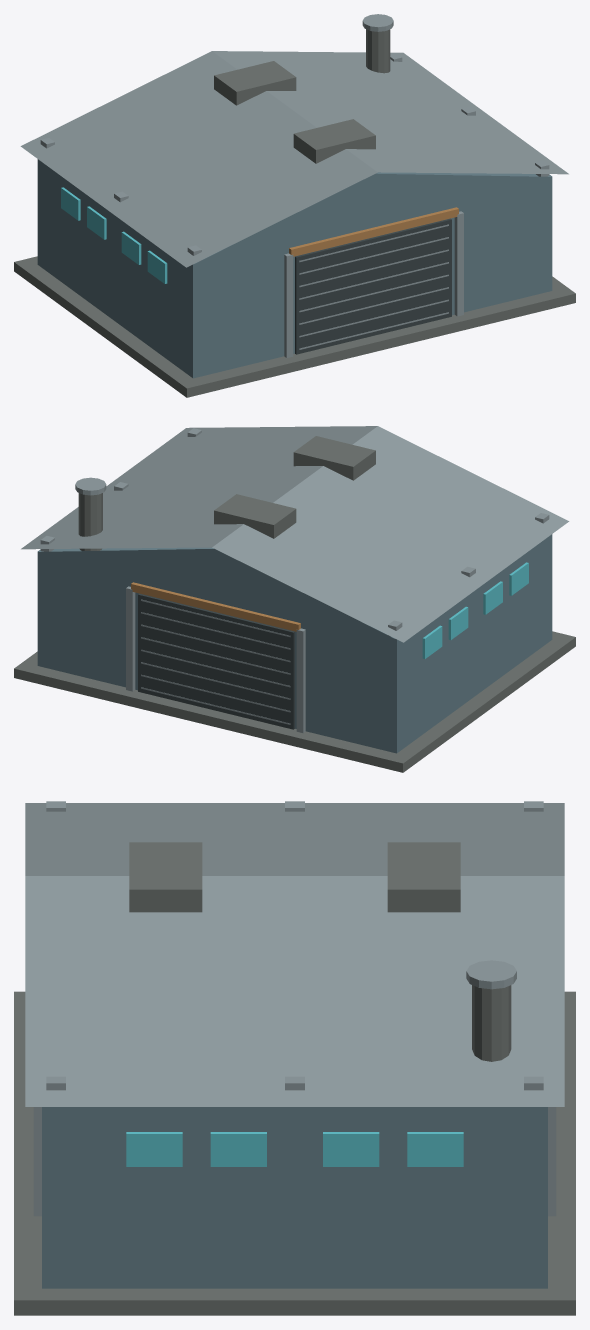
The model's file is tank_factory.glb.
3 renders of one model, top to bottom at view 1: azimuth 30°, elevation 25°; view 2: azimuth 150°, elevation 25°; view 3: azimuth 270°, elevation 25°, orthographic. The views are drawn at different scales.
Visible parts, largest first — view 1: Roof, Structure, Details, Foundation; view 2: Roof, Structure, Details, Foundation; view 3: Roof, Structure, Foundation, Details.
Boxes of the visible parts, x1,y1,x2,y2 form: Roof: (20,51,568,267); Structure: (37,53,552,378); Details: (61,14,463,357); Foundation: (14,256,575,397); Roof: (21,426,569,642); Structure: (37,428,552,753); Details: (75,477,528,732); Foundation: (14,631,575,772); Roof: (25,803,564,1106); Structure: (42,801,547,1288); Foundation: (14,991,575,1315); Details: (33,960,556,1216).
Size of the model in its own units: 13 by 5.97 by 10.
